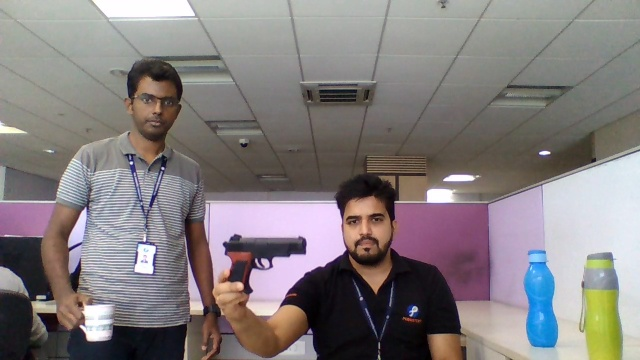gun: (224, 234, 307, 279)
